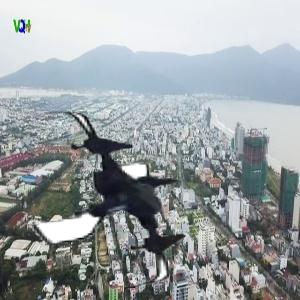drone: (21, 108, 206, 293)
